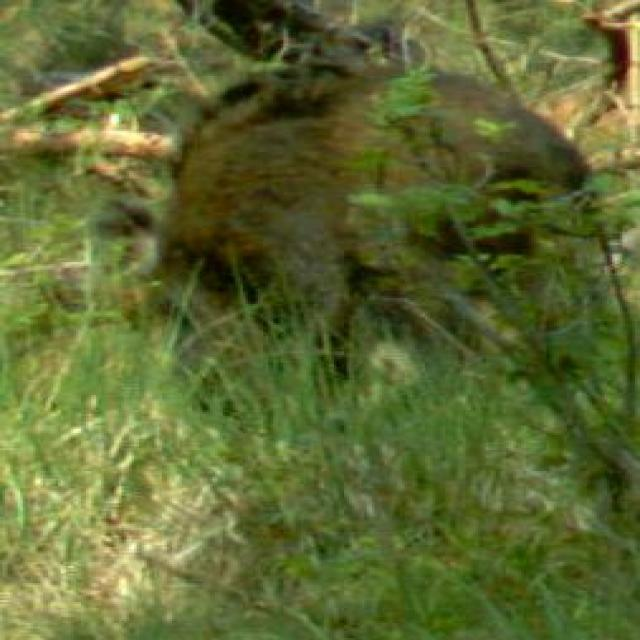pig: (116, 54, 636, 467)
